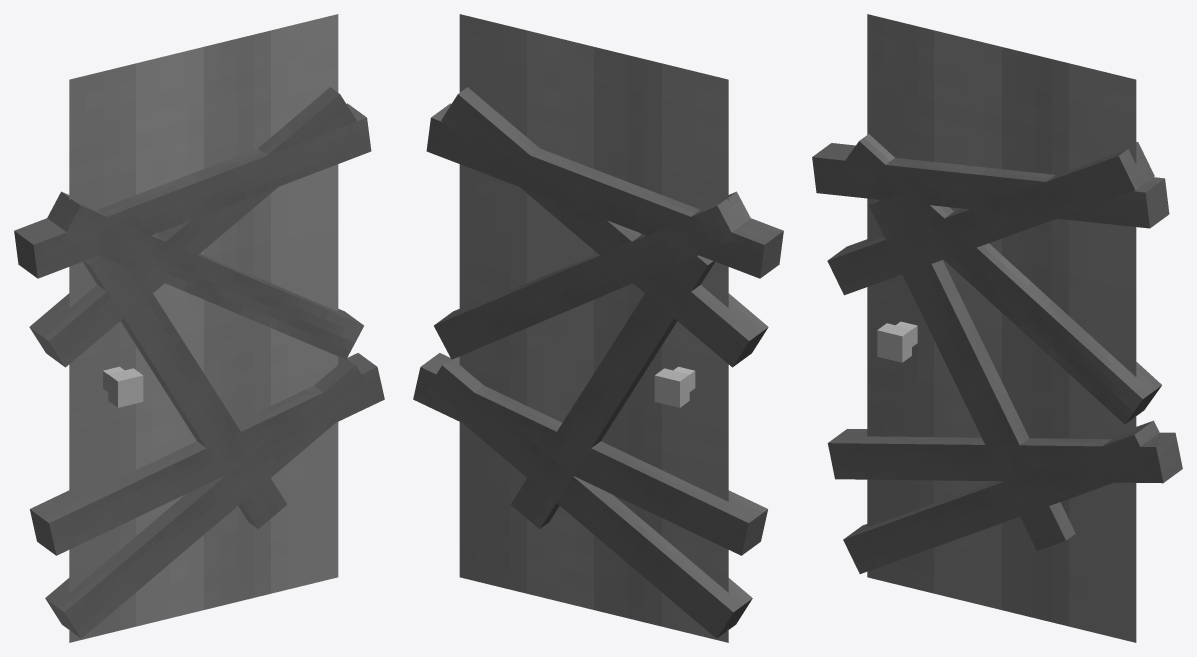
Rendered from door_boarded.gltf.
3 renders of one model, left to right at view 1: azimuth 30°, elevation 25°; view 2: azimuth 150°, elevation 25°; view 3: azimuth 330°, elevation 25°, orthographic.
Parts seen in each view (by area): view 1: main, board_4, board_2, board_5, board_1, board_6, board_3, front_knob; view 2: main, board_4, board_2, board_1, board_3, board_6, board_5, front_knob; view 3: main, board_1, board_4, board_6, board_3, board_2, board_5, front_knob.
Boxes of the visible parts, x1,y1,x2,y2 form: main: (69, 14, 338, 642); board_4: (45, 356, 372, 638); board_2: (14, 103, 371, 278); board_5: (30, 353, 384, 555); board_1: (47, 191, 363, 359); board_6: (83, 244, 287, 528); board_3: (29, 87, 356, 367); front_knob: (108, 368, 143, 407); main: (459, 14, 728, 642); board_4: (425, 356, 752, 638); board_2: (426, 103, 783, 278); board_1: (434, 191, 750, 359); board_3: (441, 87, 768, 367); board_6: (510, 242, 714, 528); board_5: (413, 353, 767, 555); front_knob: (654, 368, 689, 407); main: (867, 14, 1136, 642); board_1: (841, 134, 1161, 424); board_4: (843, 420, 1159, 573); board_6: (869, 195, 1075, 550); board_3: (827, 142, 1154, 295); board_2: (812, 143, 1169, 228); board_5: (827, 429, 1182, 483); front_knob: (877, 323, 911, 362).
Bounding box in the file's own units: 1.31 × 2 × 0.25.
Materials: 3 (3 with a texture image).
